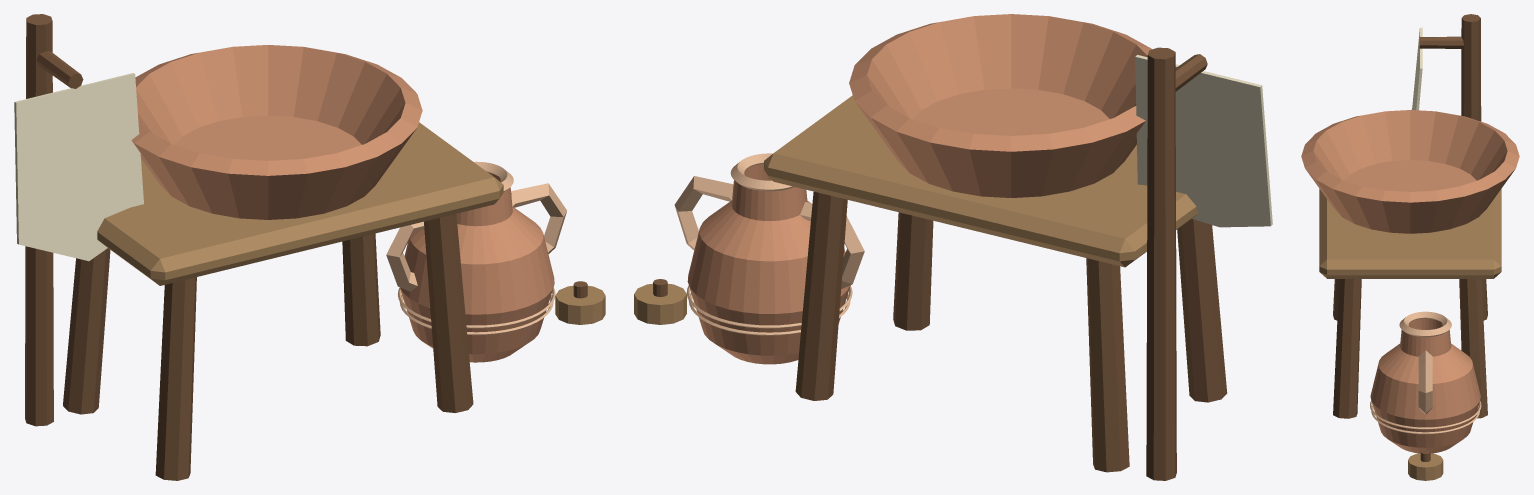
3 renders of one model, left to right at view 1: azimuth 30°, elevation 25°; view 2: azimuth 150°, elevation 25°; view 3: azimuth 270°, elevation 25°, orthographic. The views are drawn at different scales.
Parts seen in each view (by area): view 1: BA-0066 batched; view 2: BA-0066 batched; view 3: BA-0066 batched.
Boxes of the visible parts, <box> form: BA-0066 batched: <box>14,14,605,480</box>; BA-0066 batched: <box>634,14,1272,480</box>; BA-0066 batched: <box>1301,14,1519,480</box>.
Bounding box in the file's own units: 1.6 × 1.03 × 0.72.
